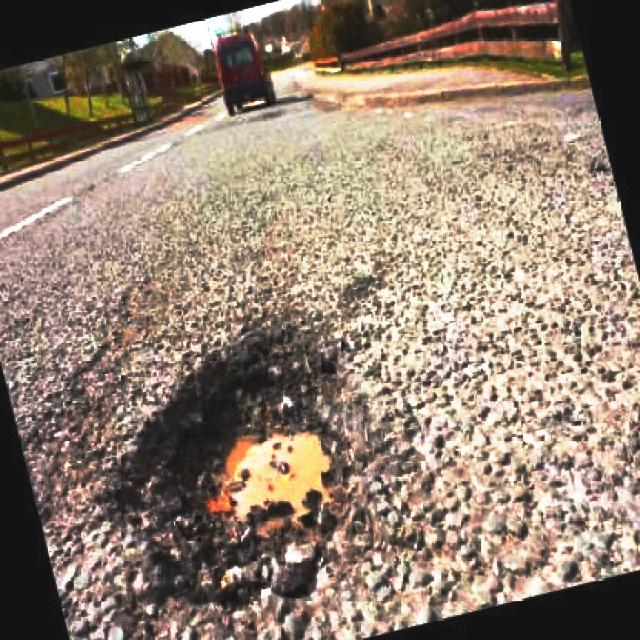pothole: (111, 326, 363, 622)
